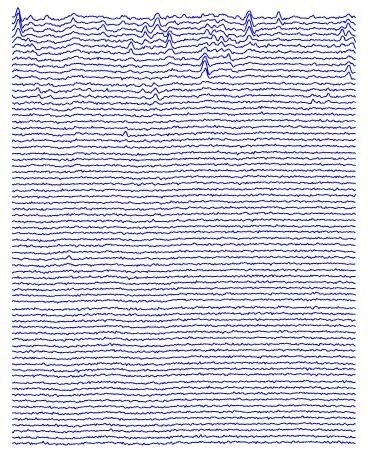defect: (130, 16, 173, 60), (331, 12, 355, 82), (199, 13, 227, 45), (90, 17, 116, 49), (308, 84, 332, 109), (12, 5, 29, 40), (149, 77, 166, 108), (269, 9, 292, 31), (245, 8, 257, 46), (197, 52, 208, 76), (120, 121, 131, 145)
